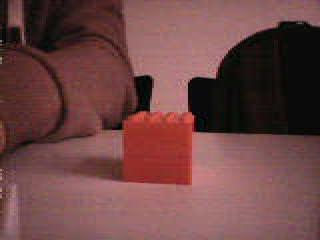legocube: (120, 109, 195, 186)
